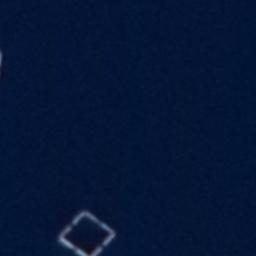square_solid: (51, 203, 124, 256)
